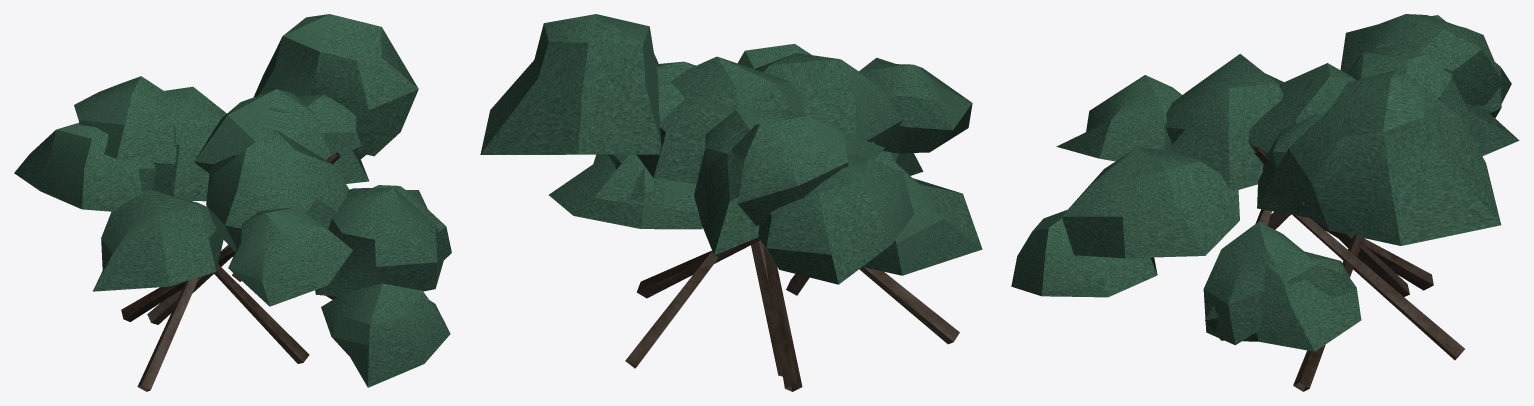
The model's file is thicket_4.glb.
3 renders of one model, left to right at view 1: azimuth 30°, elevation 25°; view 2: azimuth 150°, elevation 25°; view 3: azimuth 270°, elevation 25°, orthographic. The views are drawn at different scales.
Visible parts, largest first — view 1: thicket_4; view 2: thicket_4; view 3: thicket_4.
Part boxes in pixels (box(x1,y1,x2,y2)): thicket_4: box(14, 14, 451, 391); thicket_4: box(480, 14, 982, 391); thicket_4: box(1011, 14, 1519, 391).
Size of the model in its own units: 3.58 by 2.5 by 3.64.
Materials: 2 (2 with a texture image).
